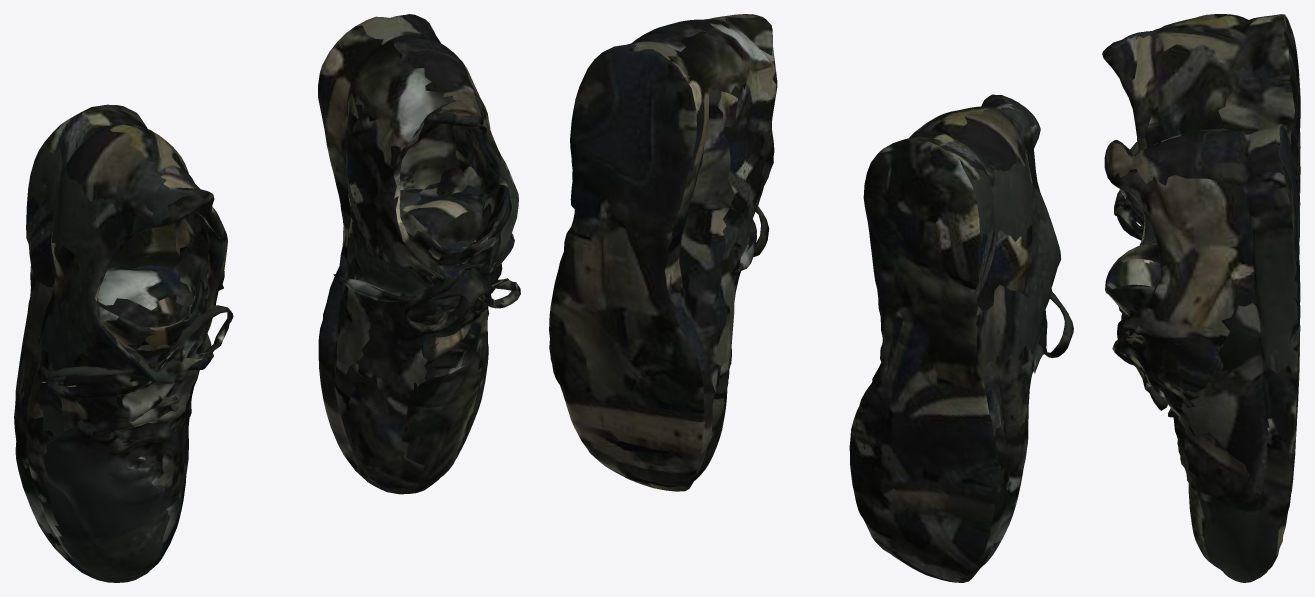
The model's file is sneakers.obj.
3 views of the same model, side by side, from view 1: azimuth 30°, elevation 25°; view 2: azimuth 150°, elevation 25°; view 3: azimuth 270°, elevation 25° (orthographic). The views are drawn at different scales.
Bounding box in the file's own units: 0.333 × 0.3239 × 0.1268.
Materials: 1 (1 with a texture image).
